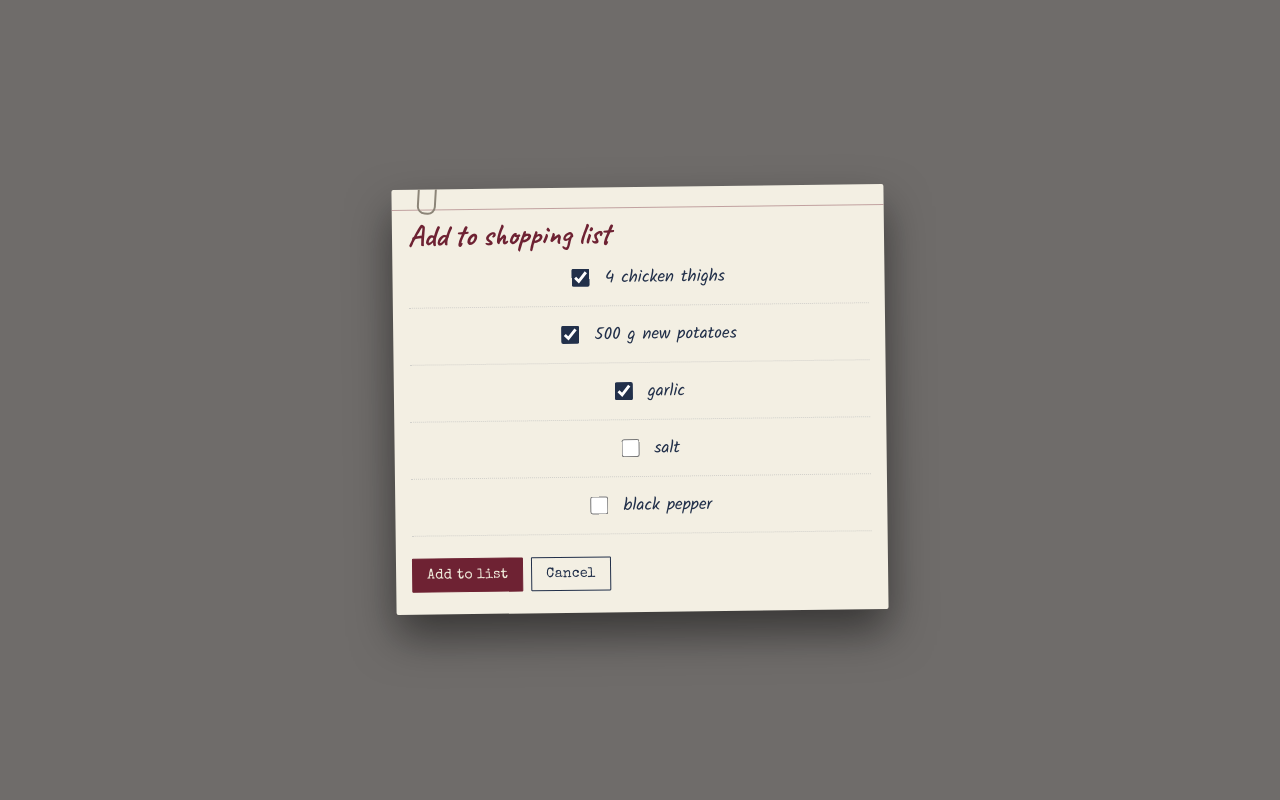
Test case: after a successful add › says how many went on the list
Click the button with test id "add-confirm" at (468, 576), box [412, 558, 523, 594]
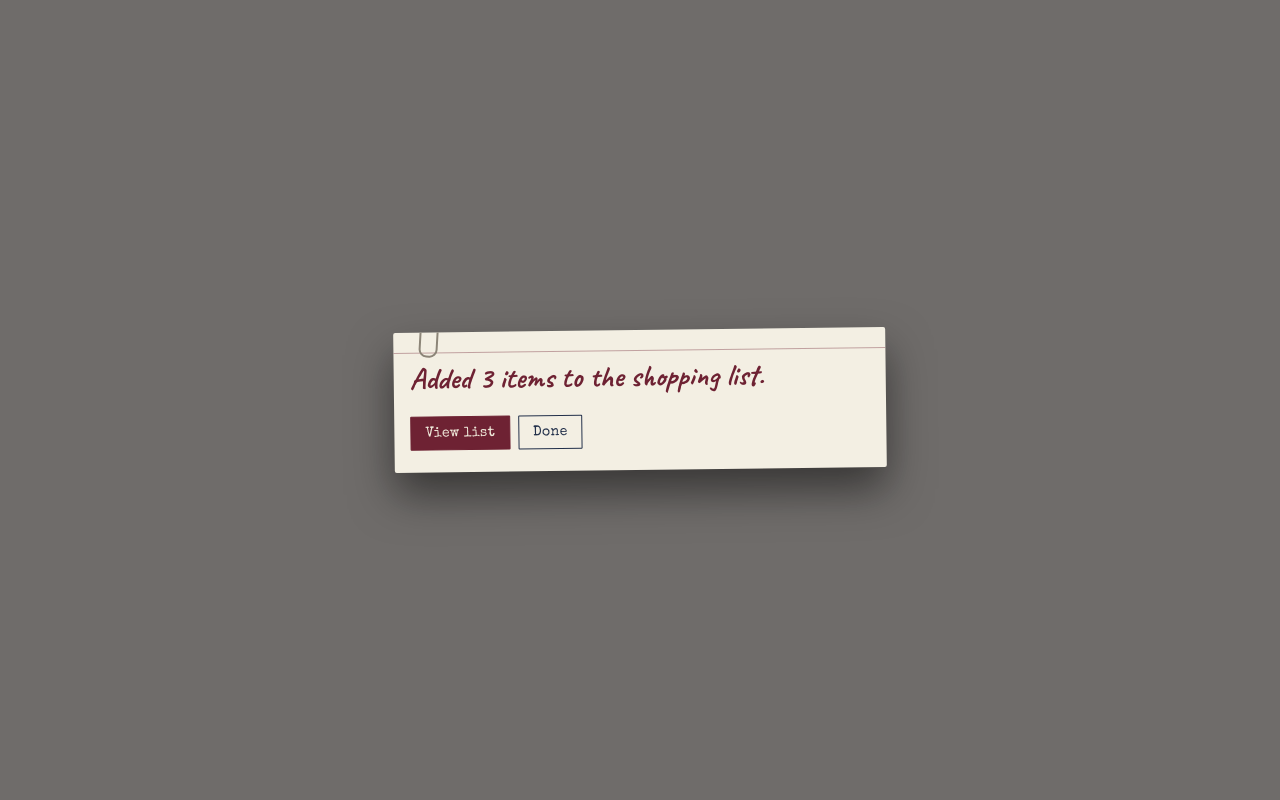
Check: the heading with test id "add-result" reads "Added 3 items to the shopping list.", box [410, 355, 764, 398]
